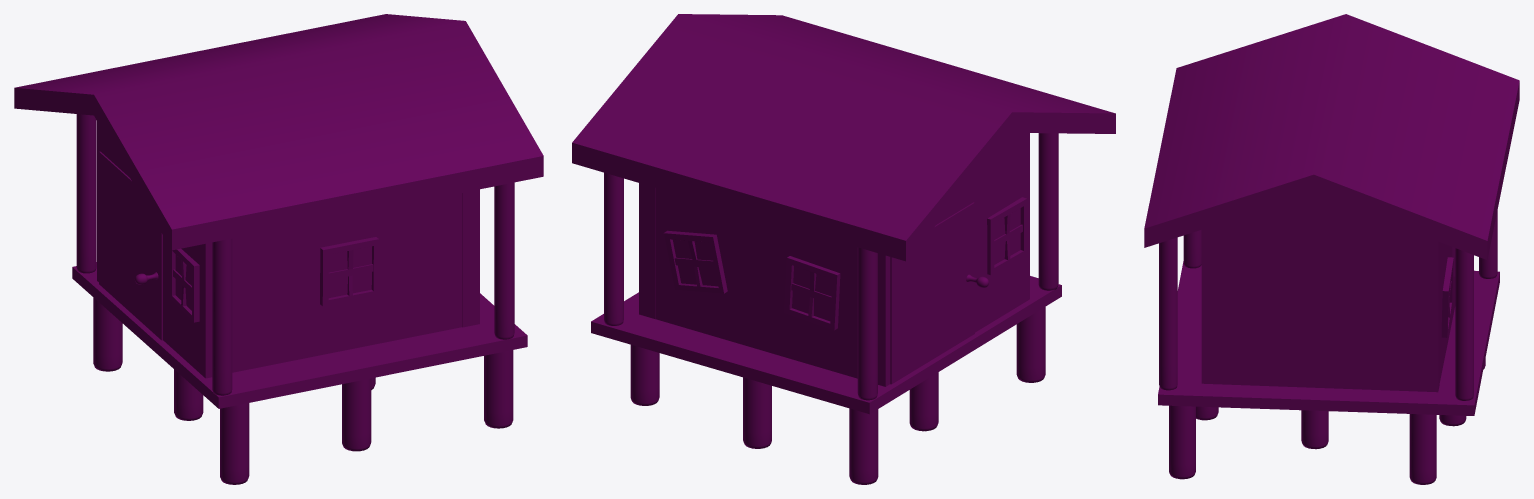
File: House1.fbx
The picture shows the model from 3 angles, left to right: view 1: azimuth 30°, elevation 25°; view 2: azimuth 150°, elevation 25°; view 3: azimuth 270°, elevation 25°; orthographic projection. The views are drawn at different scales.
Visible parts, largest first — view 1: House; view 2: House; view 3: House.
Part boxes in pixels (bbox=[...]): House: bbox=[14, 14, 543, 484]; House: bbox=[572, 14, 1115, 484]; House: bbox=[1144, 14, 1519, 484].
Bounding box in the file's own units: 6.98 × 5.98 × 6.4.
